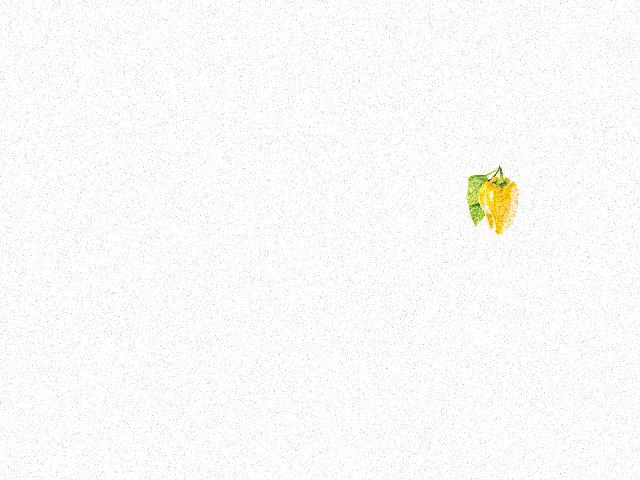bell_pepper: (477, 164, 522, 236)
